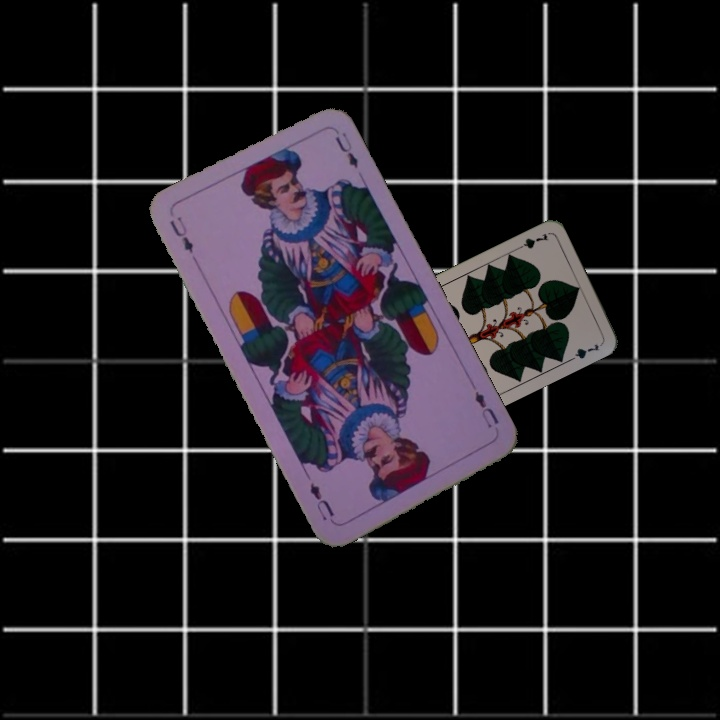EU: (470, 387, 501, 431), (166, 212, 196, 256)
G7: (512, 229, 551, 253)
